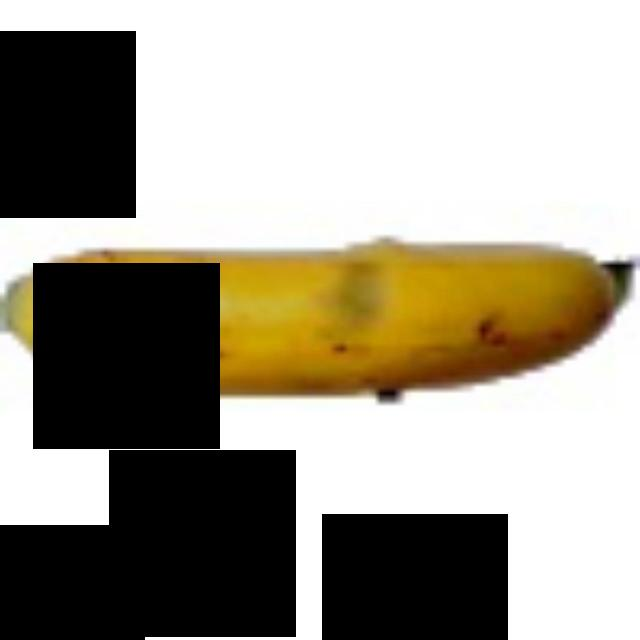banana: (0, 134, 634, 544)
